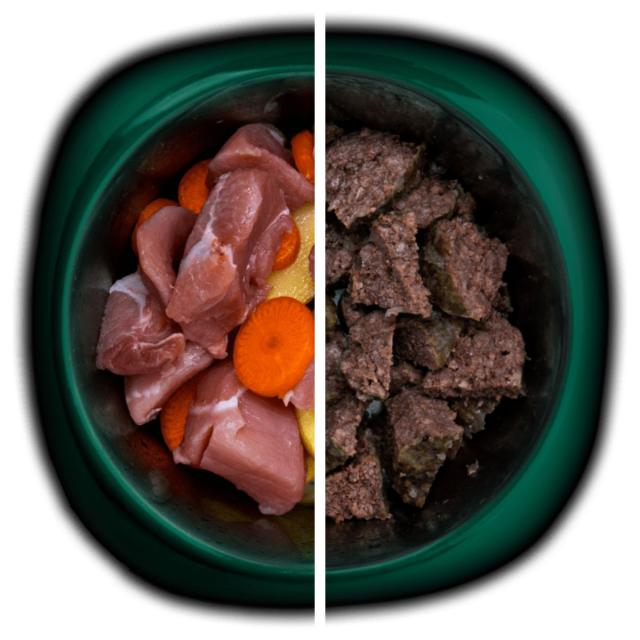carne de cerdo: (330, 122, 533, 518)
